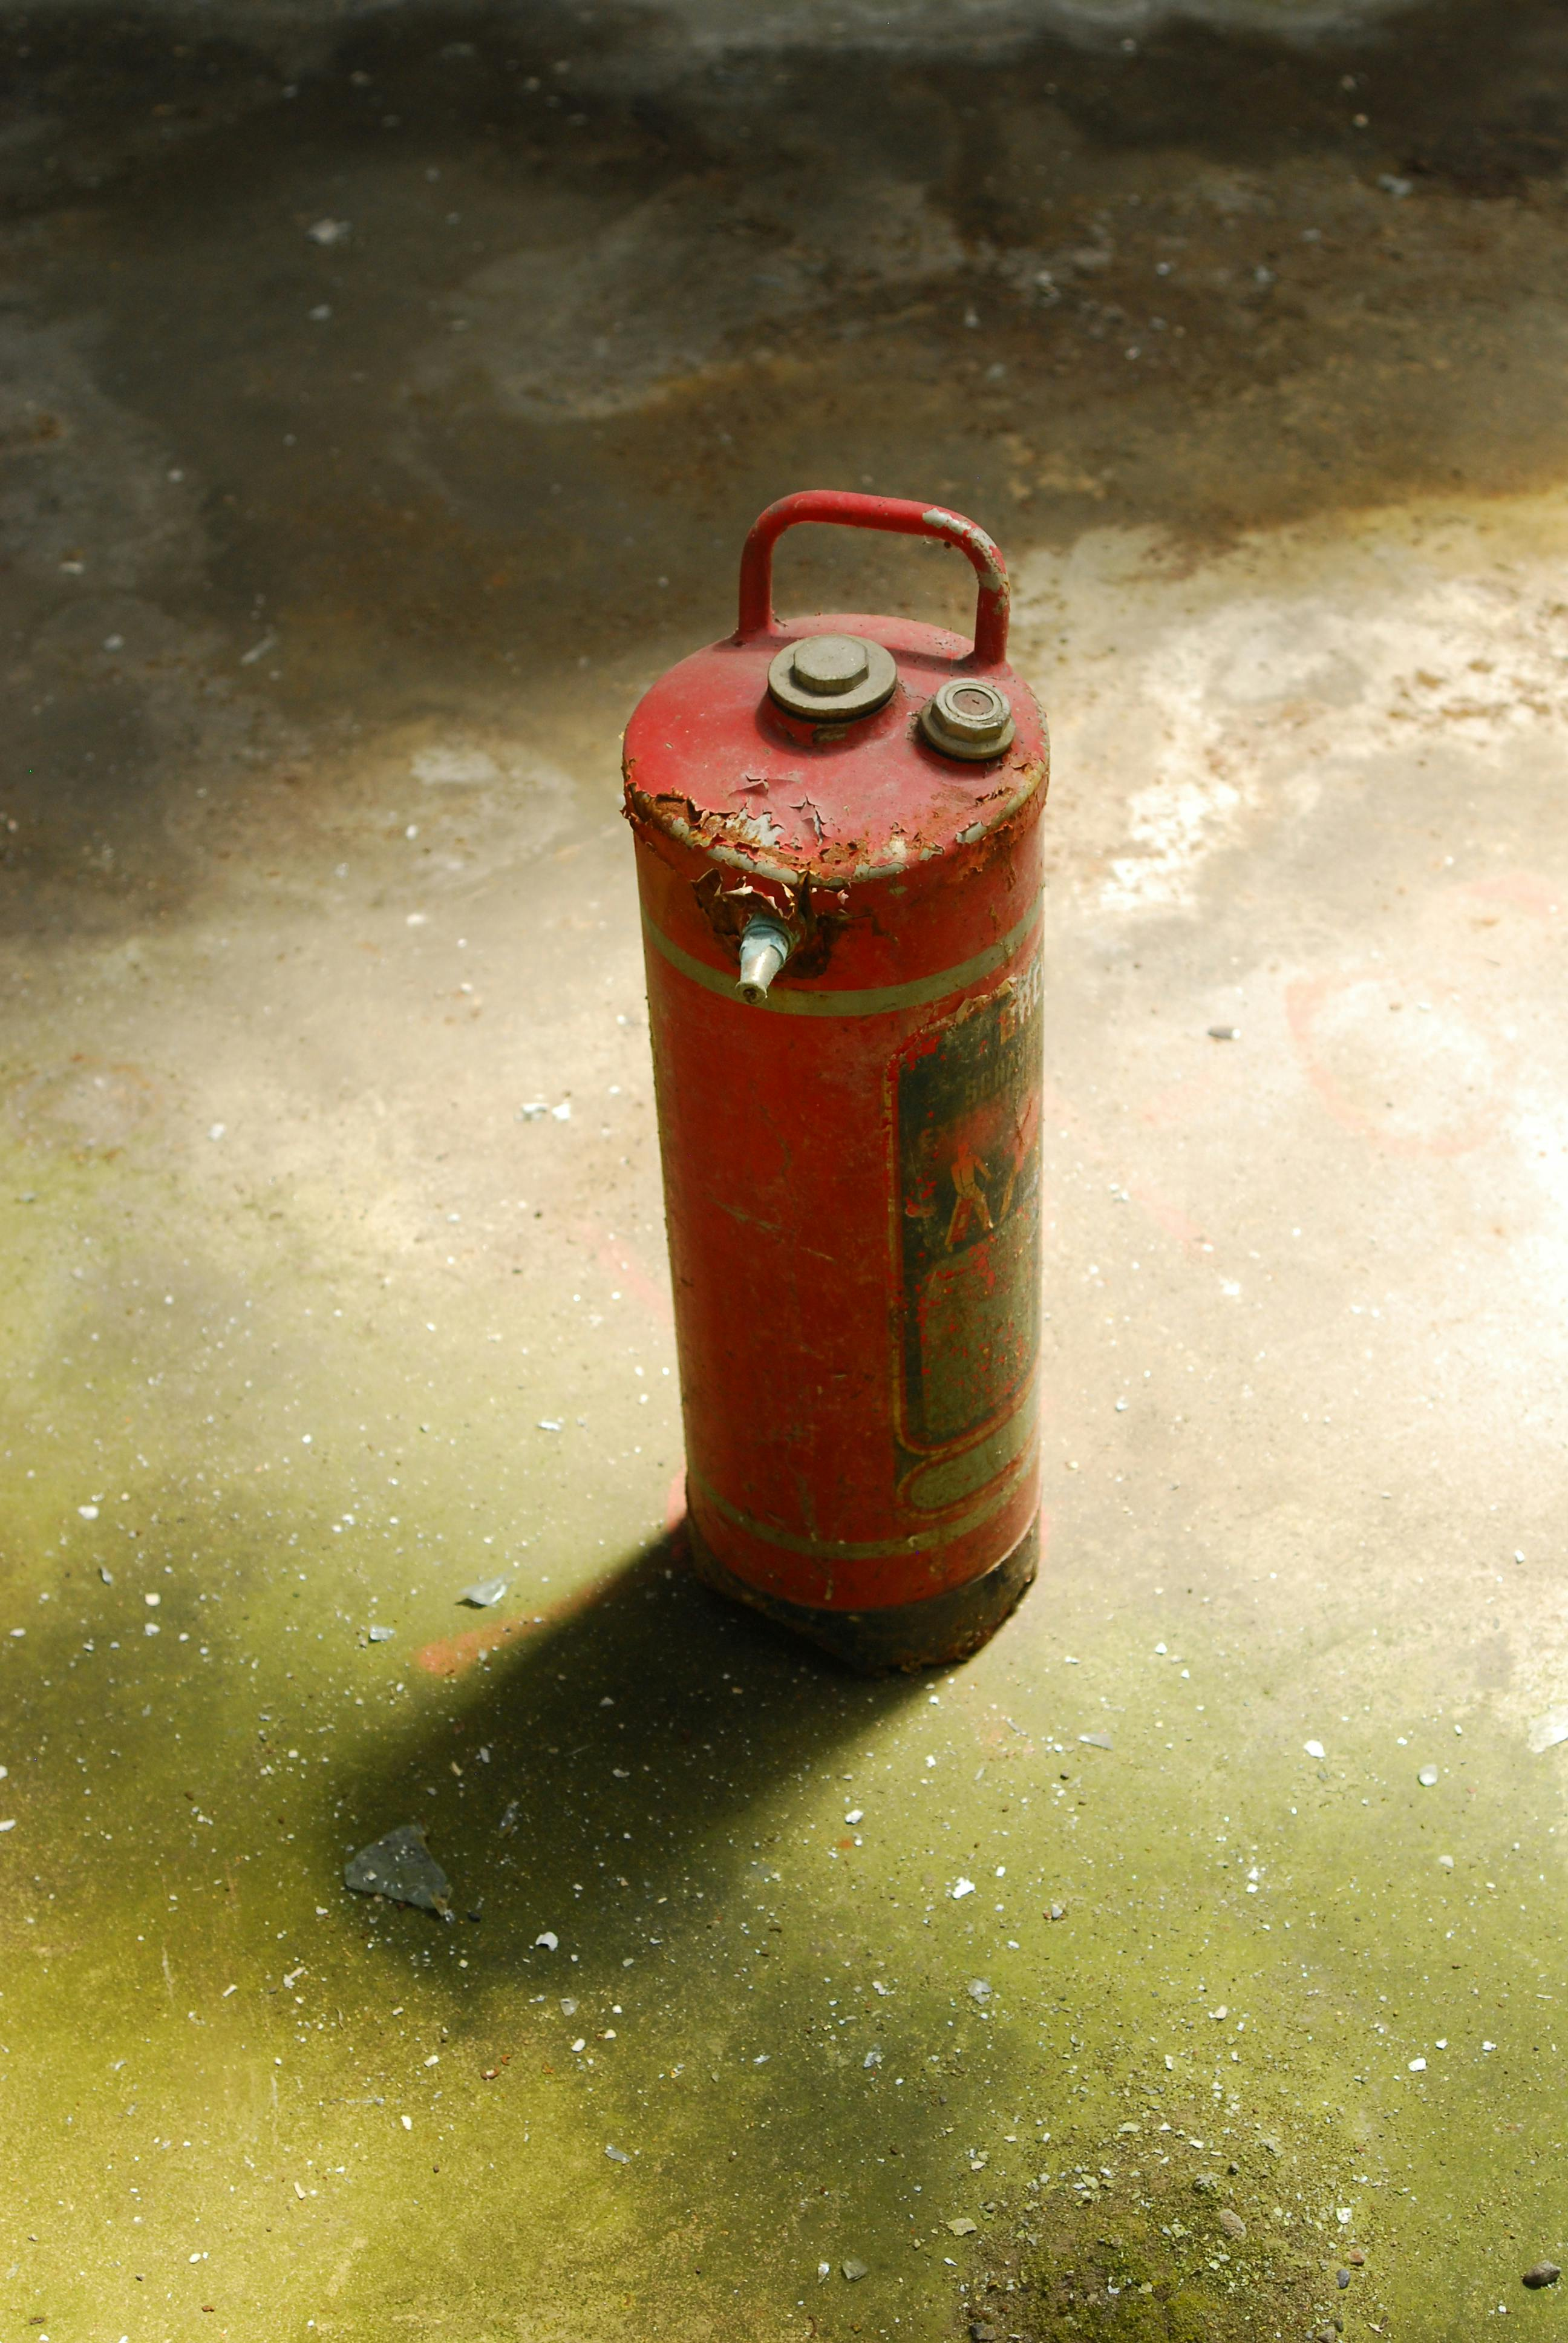extintor: (605, 476, 1064, 1676)
